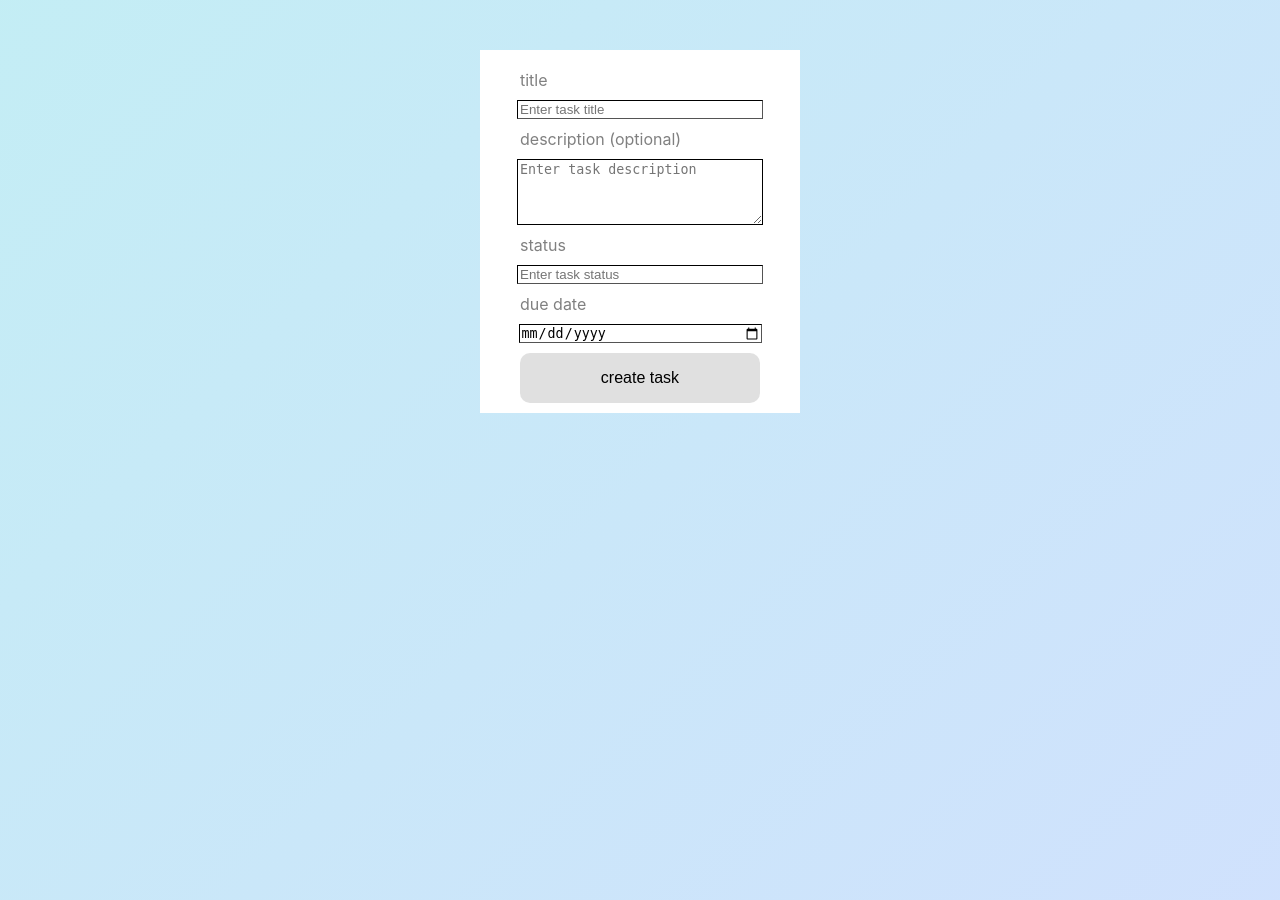
Test case: Home Component › successfully creates task with all fields and shows success modal
Type "Test Task" into the field with placeholder "Enter task title" at (640, 110), box [517,100,763,119]
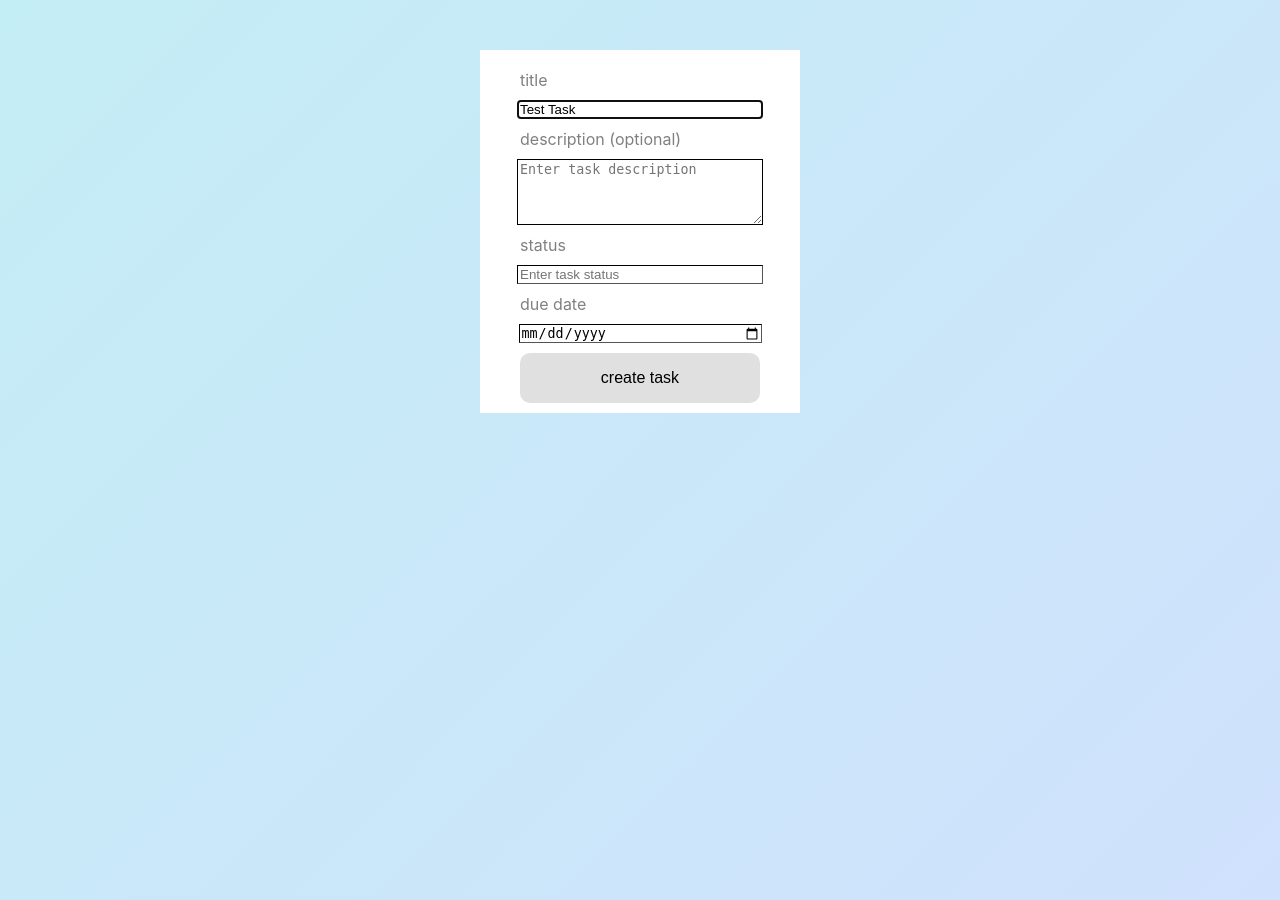
Type "Test Description" into the text box with placeholder "Enter task description" at (640, 192), box [517,159,763,225]
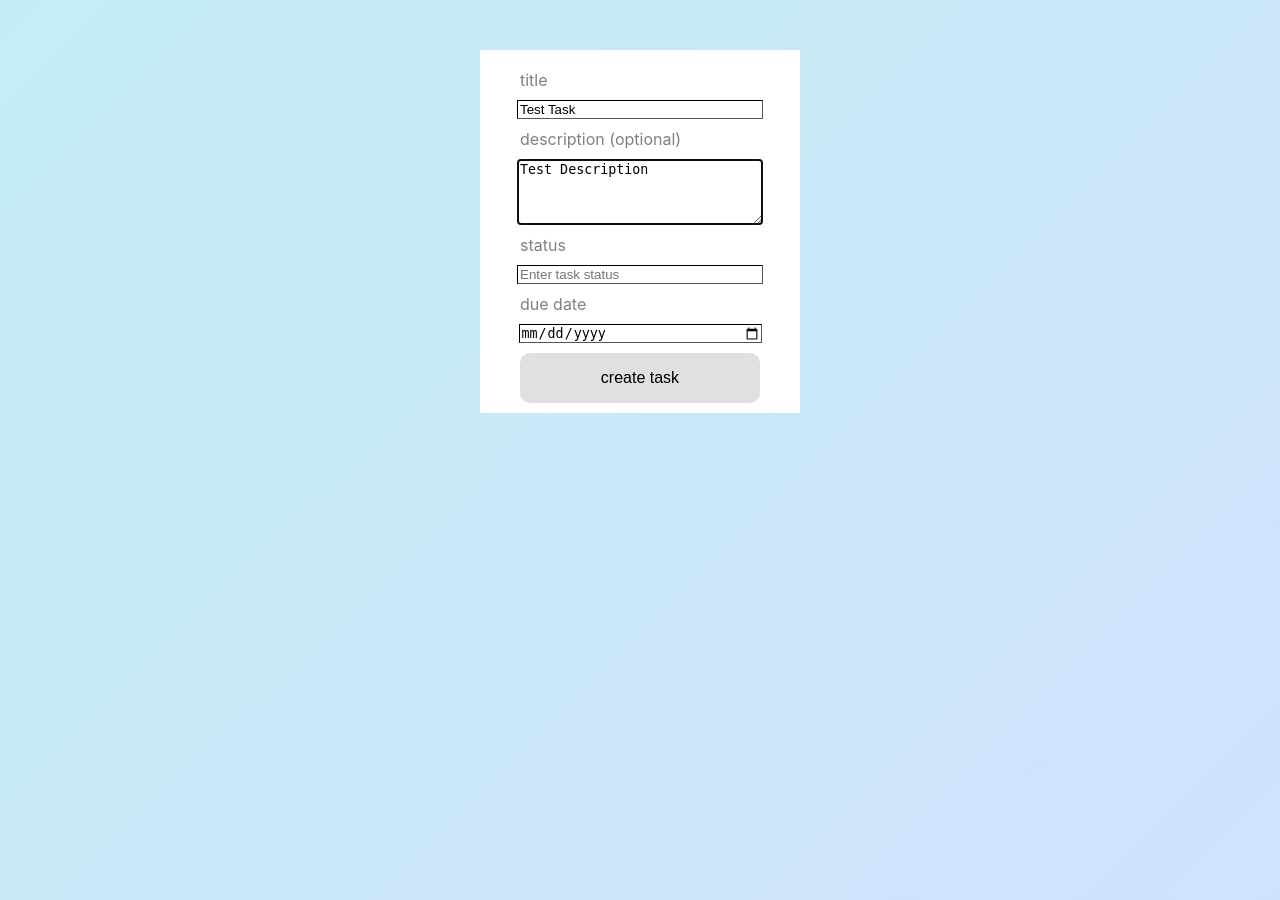
Type "pending" into the field with placeholder "Enter task status" at (640, 274), box [517,265,763,284]
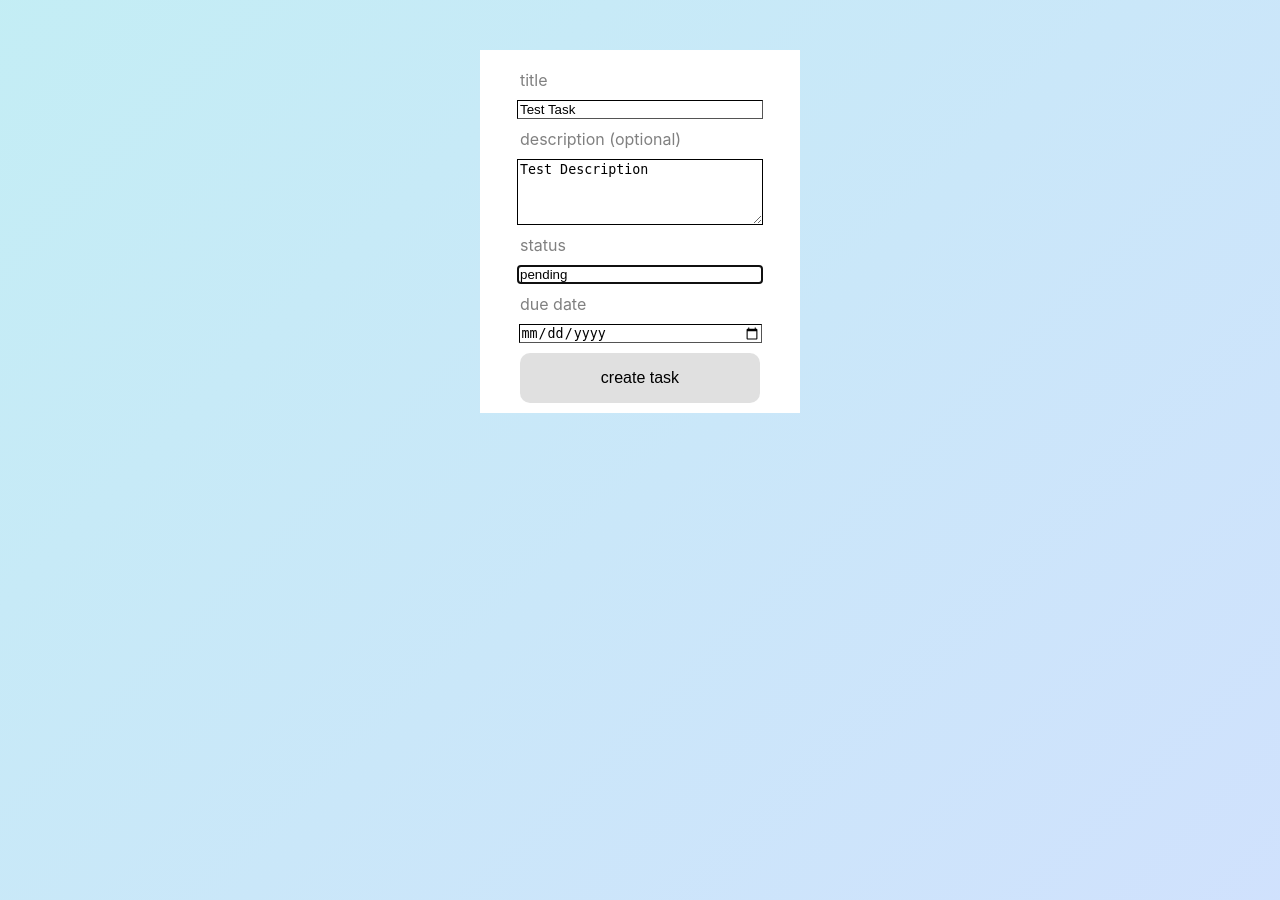
Type "2024-12-31" into the date field labelled "due date" at (640, 334), box [518,324,762,343]
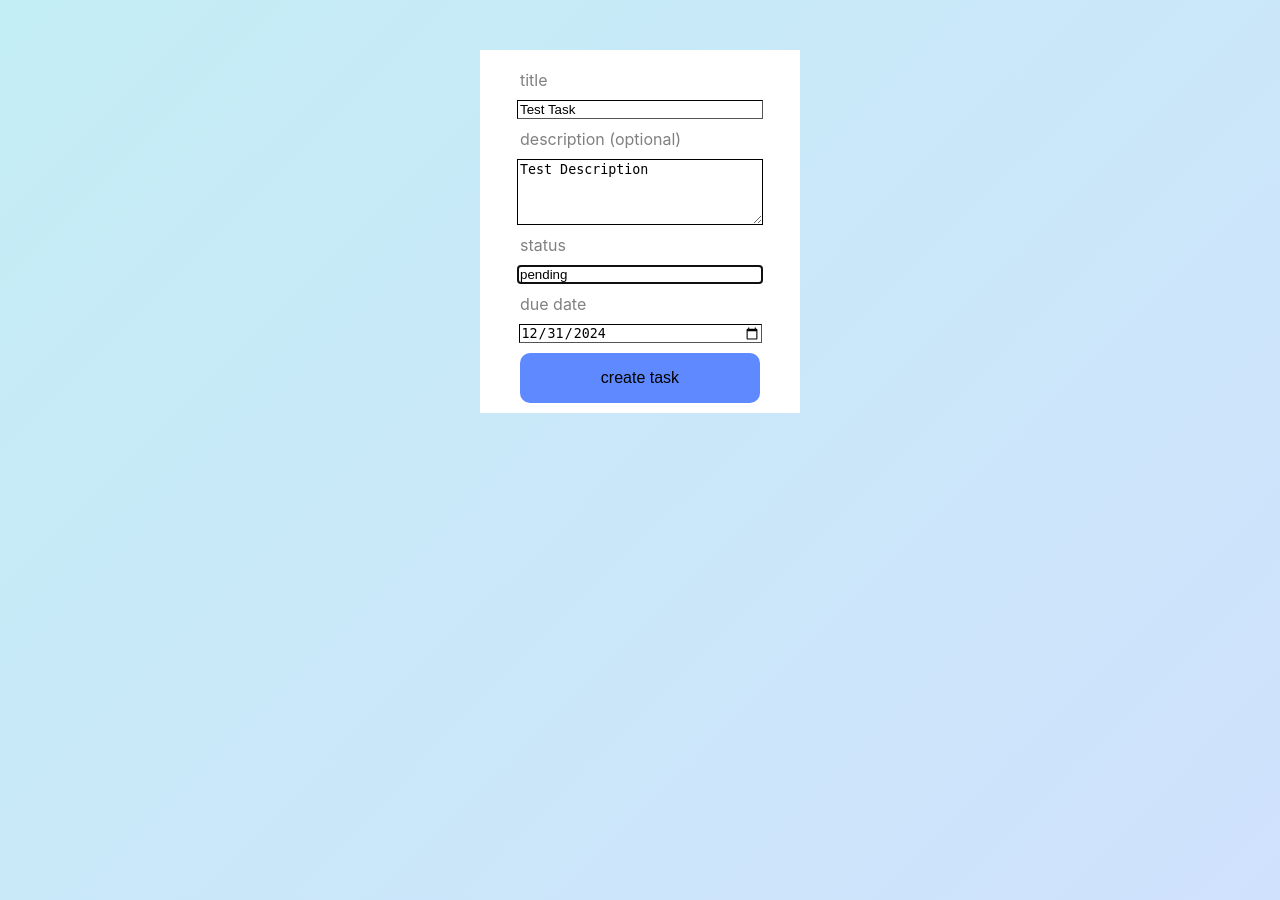
Click the button "create task" at (640, 378), box [520,353,760,403]
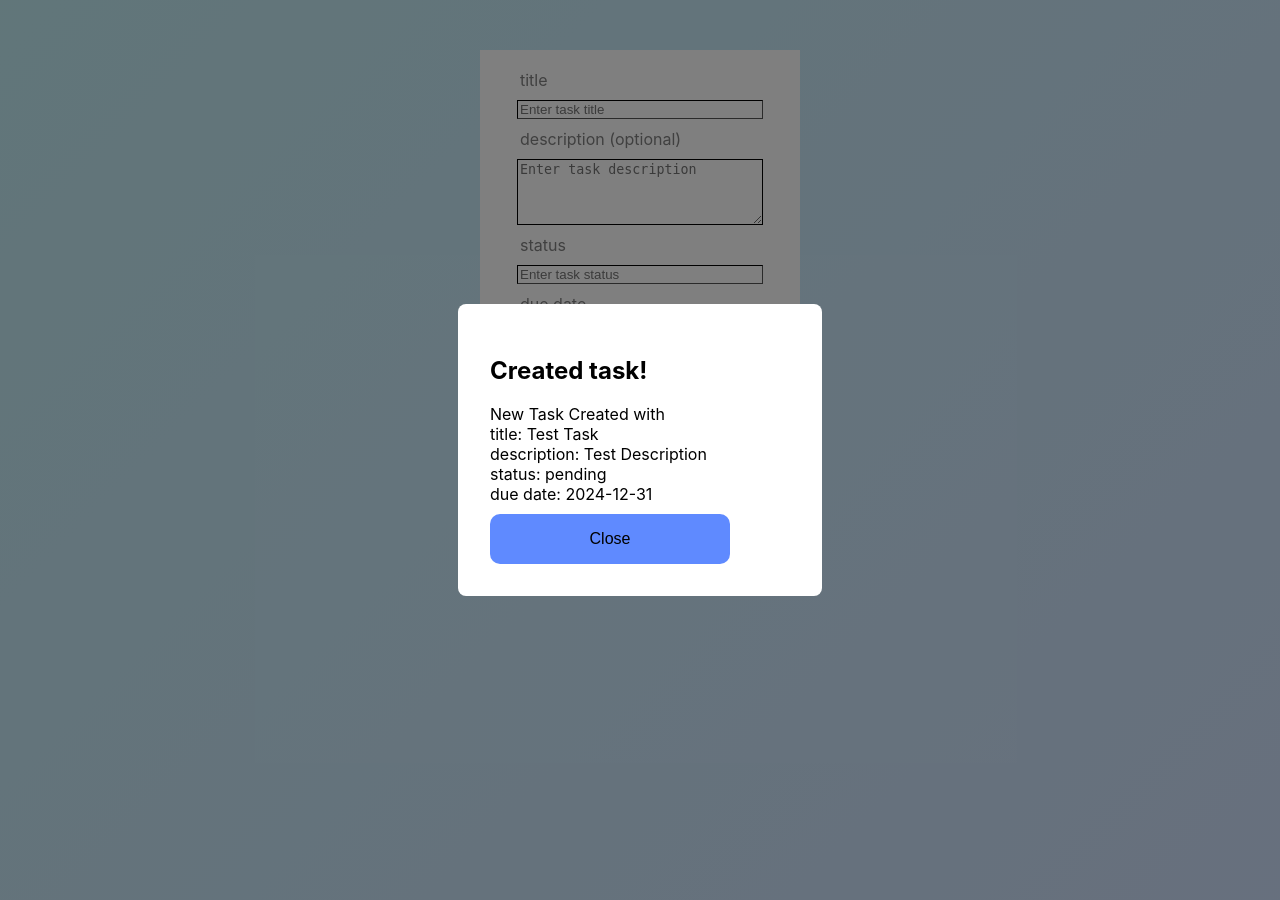
Check: the heading "Created task!" is shown, box [490,356,647,384]
Check: the text "description: Test Description" is shown, box [490,404,707,504]
